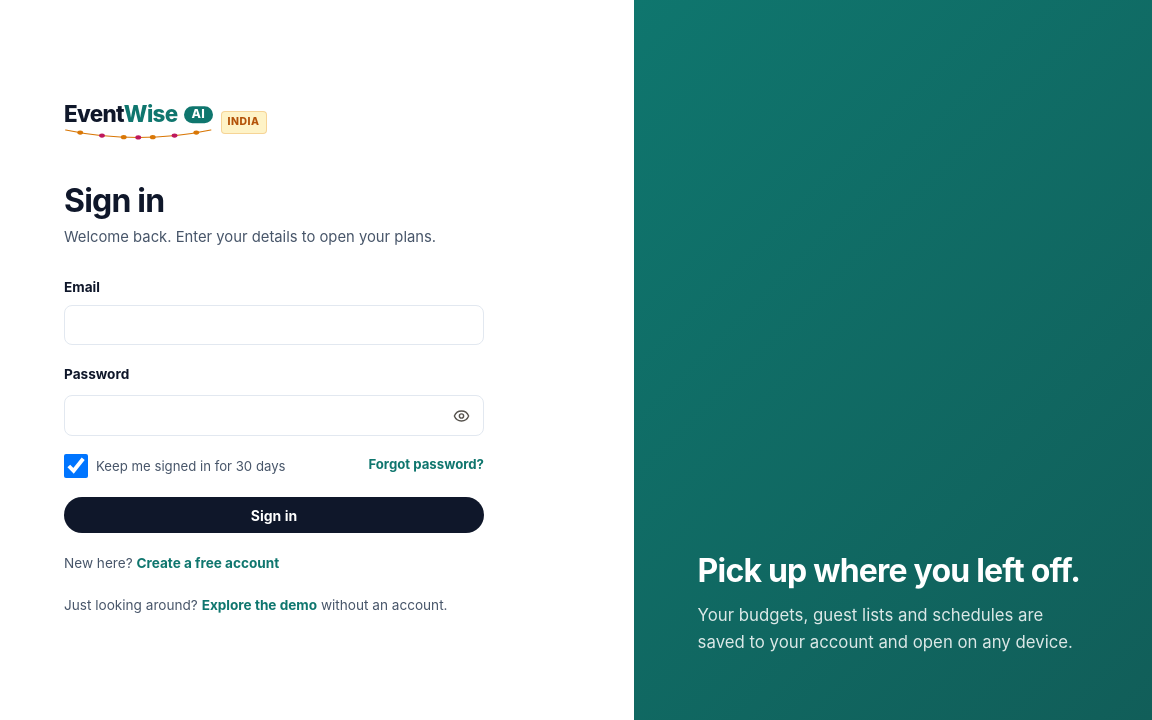
Test case: Frontend Routing, Auth UI, and Safe Paths › shows login error alert on invalid credentials
Expected: the heading "Sign in" is shown, [64,181,164,220]
Type "wrong@example.com" into the field labelled "Email" at (274, 325), box [64,305,484,346]
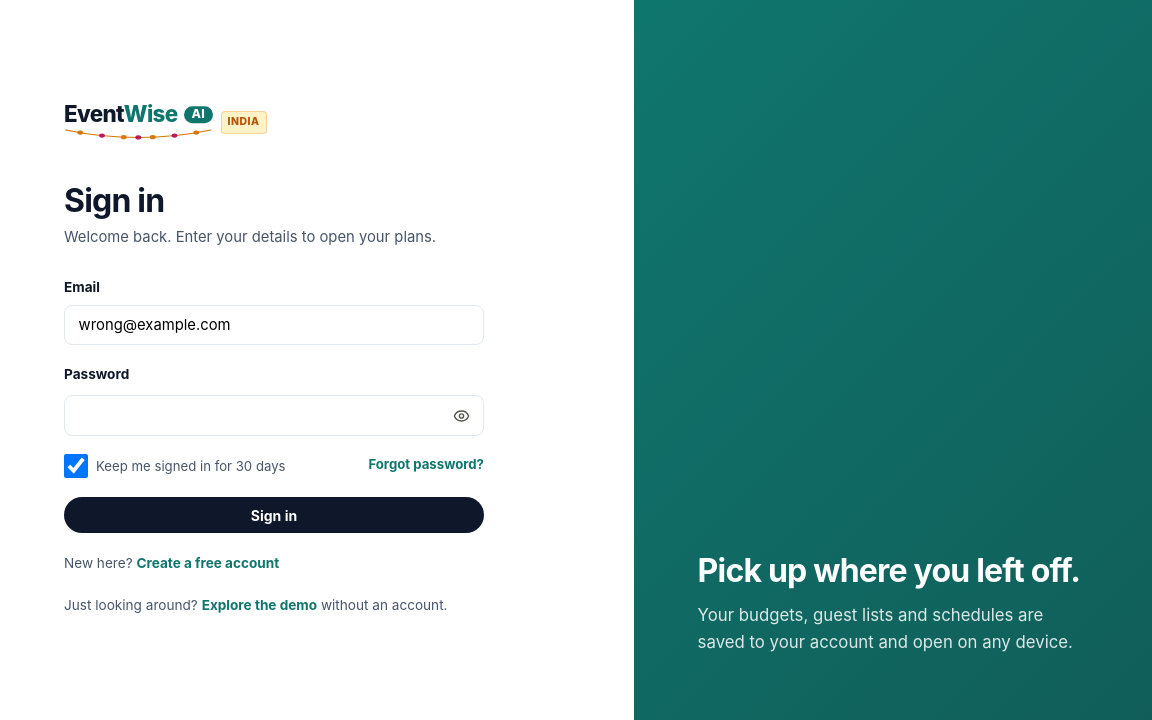
Type "WrongPassword123!" into the password field labelled "Password" at (274, 416), box [64,395,484,436]
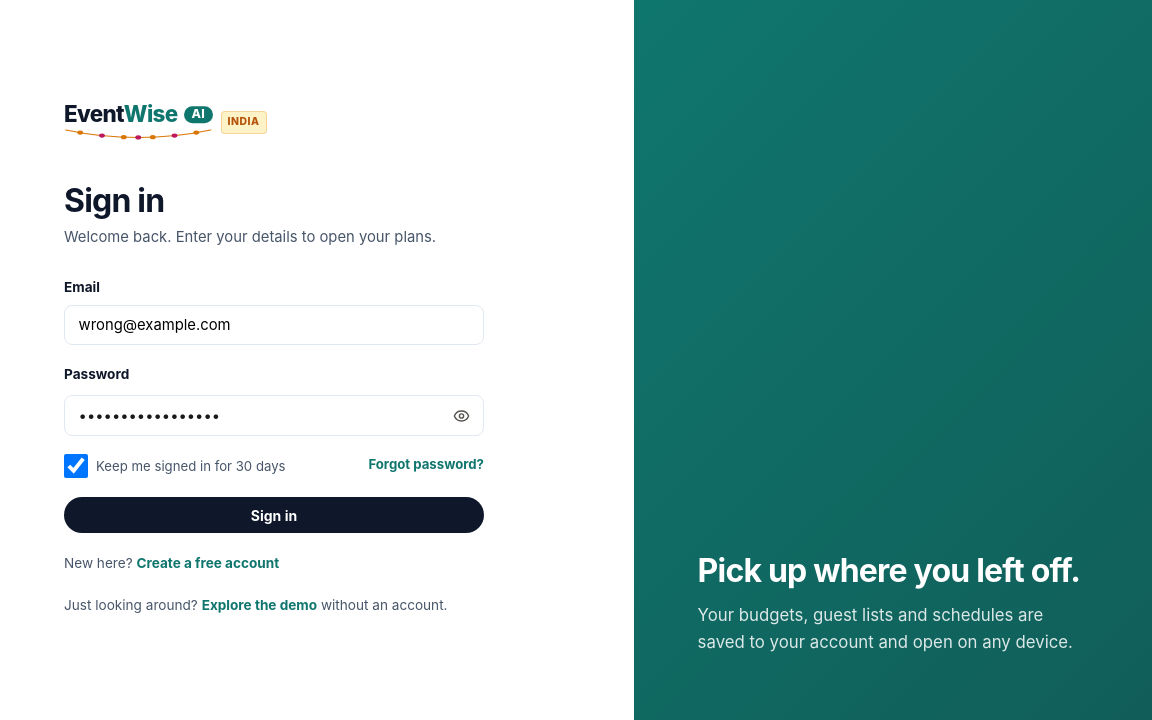
Click the button "Sign in" at (274, 515), box [64,497,484,533]
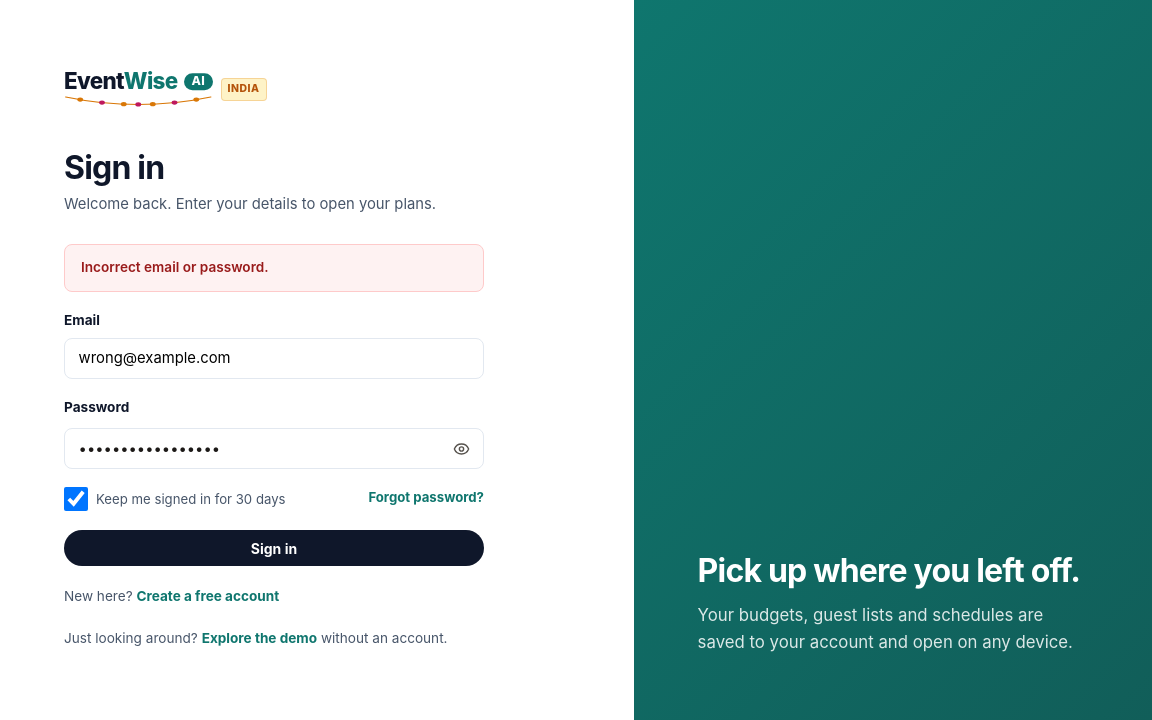
Result: the message shows "Incorrect email or password" at [81,259,269,275]
